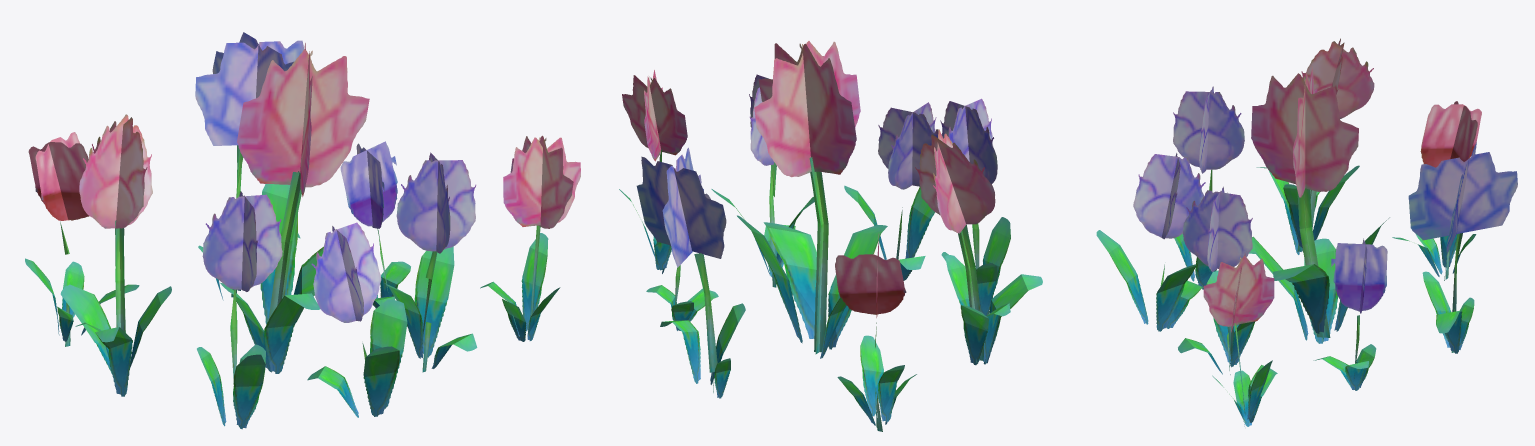
File: map_xzw07.fbx
The picture shows the model from 3 angles, left to right: view 1: azimuth 30°, elevation 25°; view 2: azimuth 150°, elevation 25°; view 3: azimuth 270°, elevation 25°; orthographic projection. The views are drawn at different scales.
Visible parts, largest first — view 1: map_xzw07; view 2: map_xzw07; view 3: map_xzw07.
Part boxes in pixels (bbox=[...]): map_xzw07: bbox=[25, 32, 580, 429]; map_xzw07: bbox=[619, 41, 1042, 431]; map_xzw07: bbox=[1096, 38, 1517, 426].
Bounding box in the file's own units: 1.24 × 0.8644 × 1.14.
Materials: 1 (1 with a texture image).
